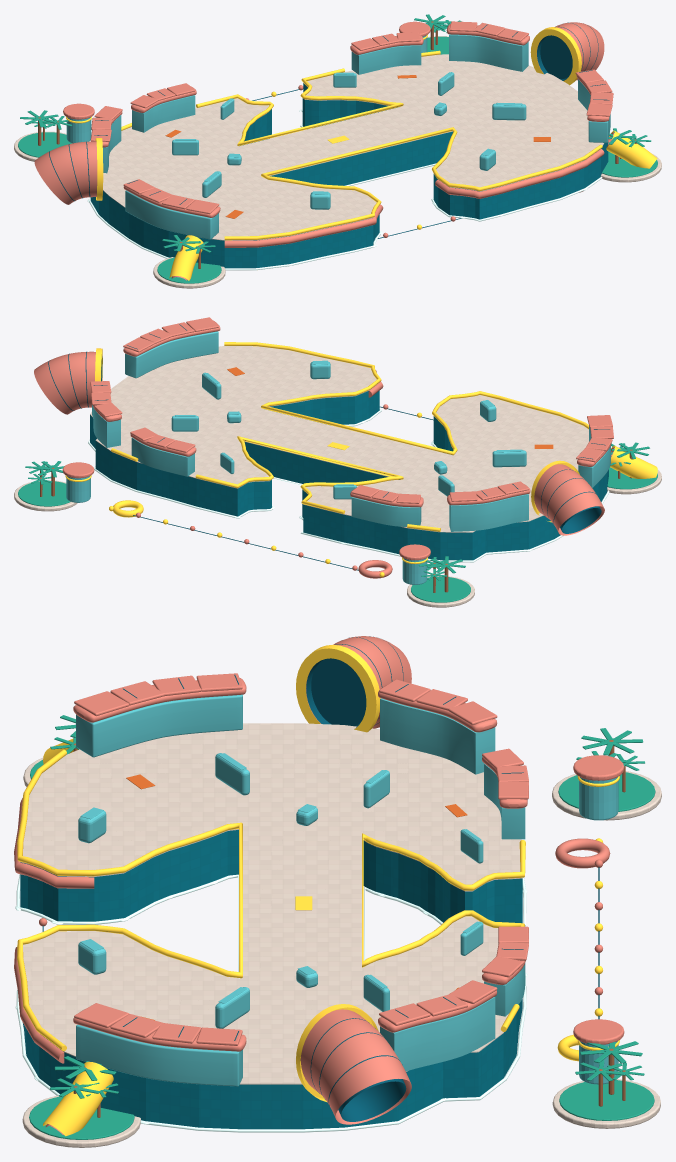
Rendered from twin_bays_art_v9_foreground.glb.
3 renders of one model, top to bottom at view 1: azimuth 30°, elevation 25°; view 2: azimuth 150°, elevation 25°; view 3: azimuth 270°, elevation 25°, orthographic. The views are drawn at different scales.
Visible parts, largest first — view 1: Foreground_TBSA_DryCream, Foreground_TBSA_CyanDark, Foreground_TBSA_CoralSoft, Foreground_TBSA_Cyan, Foreground_TBSA_SafetyYellow, Foreground_TBSA_IslandGreen, Foreground_TBSA_PortalRecess, Foreground_TBSA_ContactFoam, Foreground_TBSA_PalmTrunk; view 2: Foreground_TBSA_DryCream, Foreground_TBSA_CyanDark, Foreground_TBSA_CoralSoft, Foreground_TBSA_Cyan, Foreground_TBSA_SafetyYellow, Foreground_TBSA_IslandGreen, Foreground_TBSA_PortalRecess, Foreground_TBSA_ContactFoam; view 3: Foreground_TBSA_DryCream, Foreground_TBSA_Cyan, Foreground_TBSA_CoralSoft, Foreground_TBSA_CyanDark, Foreground_TBSA_SafetyYellow, Foreground_TBSA_IslandGreen, Foreground_TBSA_PortalRecess, Foreground_TBSA_ContactFoam, Foreground_TBSA_PalmTrunk.
Part boxes in pixels (box(x1,y1,x2,y2)): Foreground_TBSA_DryCream: box(14, 36, 661, 288); Foreground_TBSA_CyanDark: box(90, 83, 608, 268); Foreground_TBSA_CoralSoft: box(34, 21, 614, 280); Foreground_TBSA_Cyan: box(66, 34, 610, 239); Foreground_TBSA_SafetyYellow: box(66, 27, 657, 280); Foreground_TBSA_IslandGreen: box(18, 14, 657, 283); Foreground_TBSA_PortalRecess: box(49, 22, 609, 238); Foreground_TBSA_ContactFoam: box(87, 109, 602, 270); Foreground_TBSA_PalmTrunk: box(38, 21, 636, 268); Foreground_TBSA_DryCream: box(14, 346, 661, 607); Foreground_TBSA_CyanDark: box(90, 391, 608, 560); Foreground_TBSA_CoralSoft: box(34, 317, 614, 578); Foreground_TBSA_Cyan: box(66, 331, 610, 584); Foreground_TBSA_SafetyYellow: box(65, 342, 657, 577); Foreground_TBSA_IslandGreen: box(18, 442, 657, 602); Foreground_TBSA_PortalRecess: box(48, 324, 609, 570); Foreground_TBSA_ContactFoam: box(88, 408, 609, 562); Foreground_TBSA_DryCream: box(20, 723, 661, 1147); Foreground_TBSA_Cyan: box(76, 694, 618, 1086); Foreground_TBSA_CoralSoft: box(14, 636, 624, 1134); Foreground_TBSA_CyanDark: box(20, 830, 522, 1129); Foreground_TBSA_SafetyYellow: box(17, 644, 619, 1136); Foreground_TBSA_IslandGreen: box(29, 715, 655, 1139); Foreground_TBSA_PortalRecess: box(42, 636, 599, 1121); Foreground_TBSA_ContactFoam: box(15, 874, 527, 1132); Foreground_TBSA_PalmTrunk: box(73, 740, 625, 1117).
Bounding box in the file's own units: 138 × 19.57 × 85.1.
Materials: 10 (4 with a texture image).
